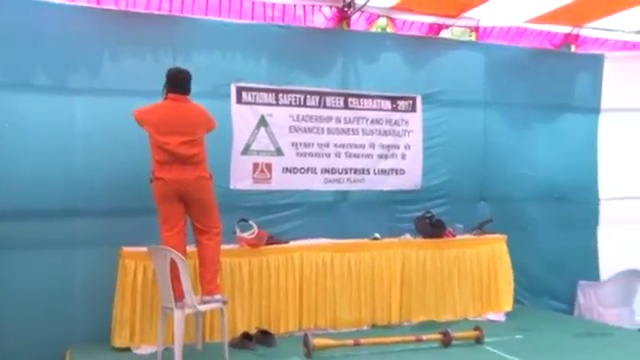helmet_off: (161, 66, 193, 101)
person: (135, 66, 229, 308)
